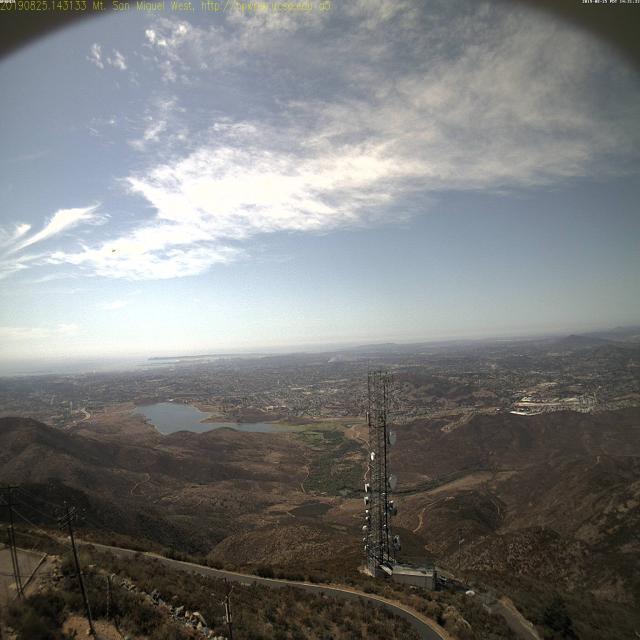smoke: (324, 348, 349, 366)
